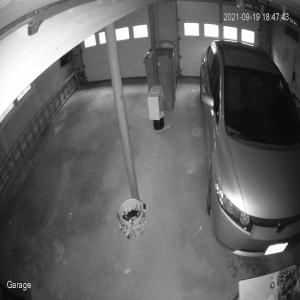garbage bin: (142, 39, 176, 112)
honda civic: (200, 39, 300, 256)
tool bucket: (117, 198, 146, 241)
